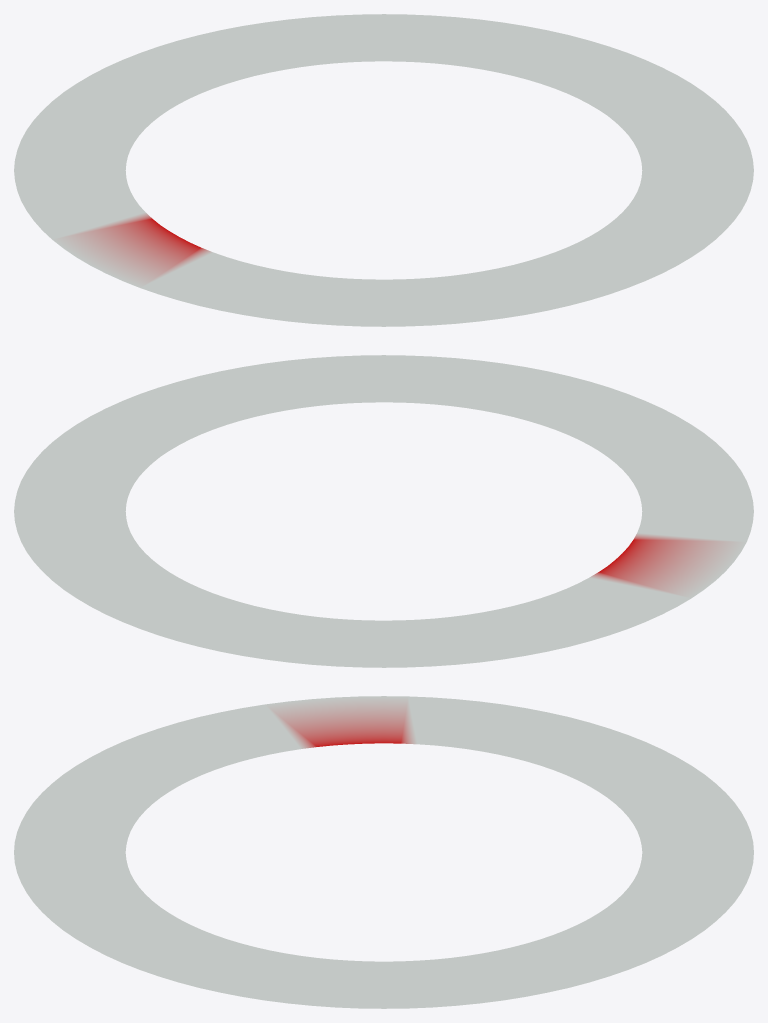
3 renders of one model, top to bottom at view 1: azimuth 30°, elevation 25°; view 2: azimuth 150°, elevation 25°; view 3: azimuth 270°, elevation 25°, orthographic.
Visible parts, largest first — view 1: G:\FFXIV-MapTools\exports\a2f2\bg\ex1\03_abr_a2\fld\a2f2\bgp; view 2: G:\FFXIV-MapTools\exports\a2f2\bg\ex1\03_abr_a2\fld\a2f2\bgp; view 3: G:\FFXIV-MapTools\exports\a2f2\bg\ex1\03_abr_a2\fld\a2f2\bgp.
Boxes of the visible parts, x1,y1,x2,y2 form: G:\FFXIV-MapTools\exports\a2f2\bg\ex1\03_abr_a2\fld\a2f2\bgp: (14,14,753,326); G:\FFXIV-MapTools\exports\a2f2\bg\ex1\03_abr_a2\fld\a2f2\bgp: (14,355,753,667); G:\FFXIV-MapTools\exports\a2f2\bg\ex1\03_abr_a2\fld\a2f2\bgp: (14,696,753,1008).
Bounding box in the file's own units: 96.69 × 0 × 96.69.
